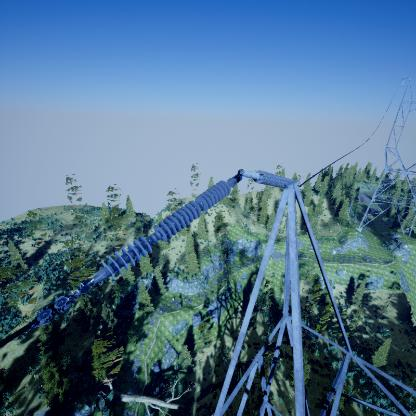insulator: (100, 179, 232, 278), (246, 166, 300, 189)
